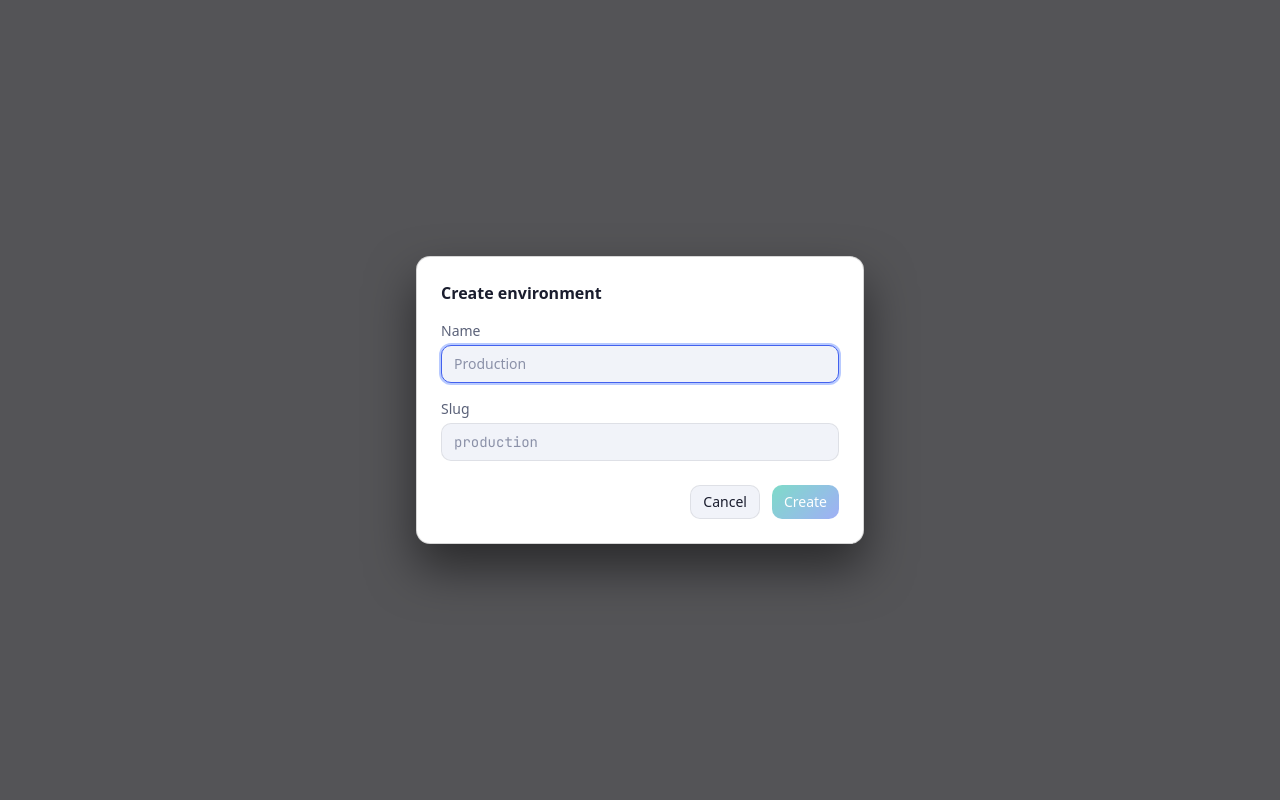
Scenario: CreateEnvironmentDialog › disables Create button when slug has validation error
The width and height of the screenshot is (1280, 800).
Type "Prod" into the field labelled "Name" at (640, 364), box [441,345,839,383]
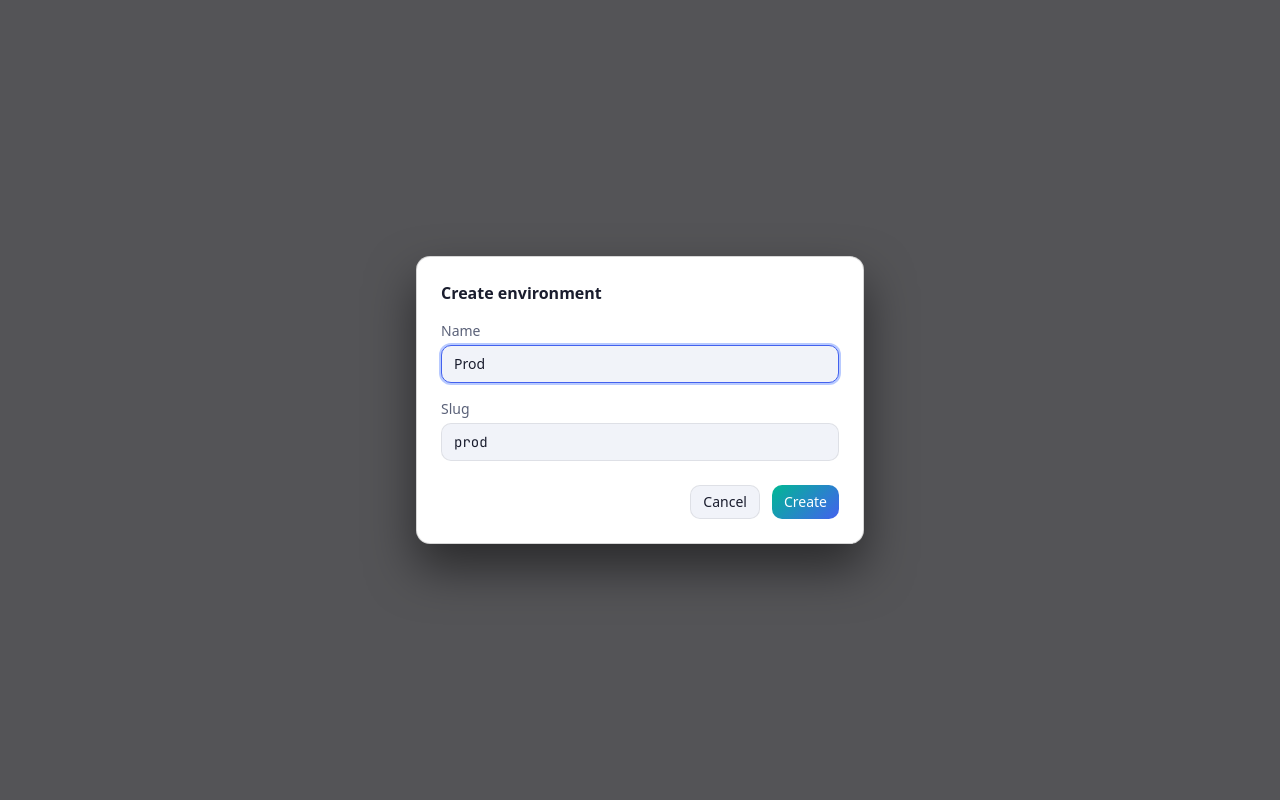
Note: clear slug and type an invalid one
Replace the text in the field labelled "Slug" with "my production env" at (640, 442), box [441,423,839,461]
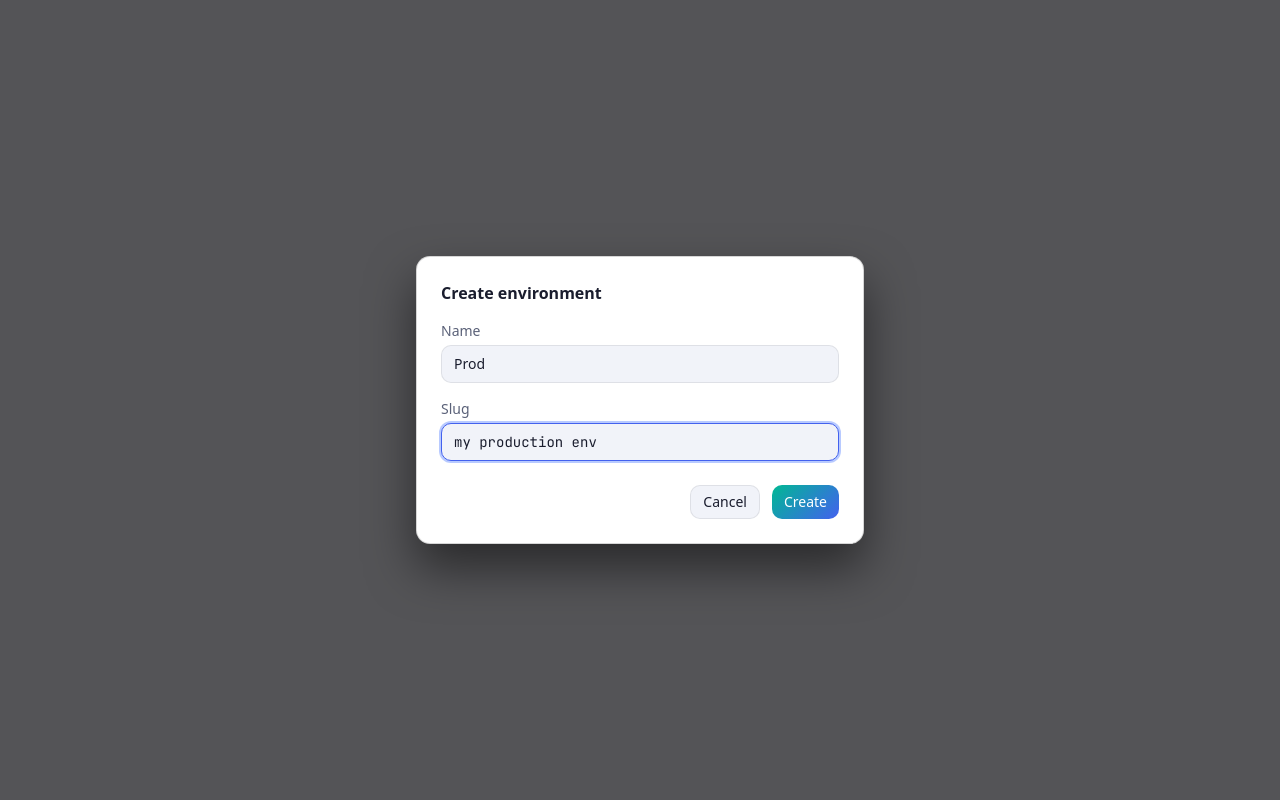
Press Tab
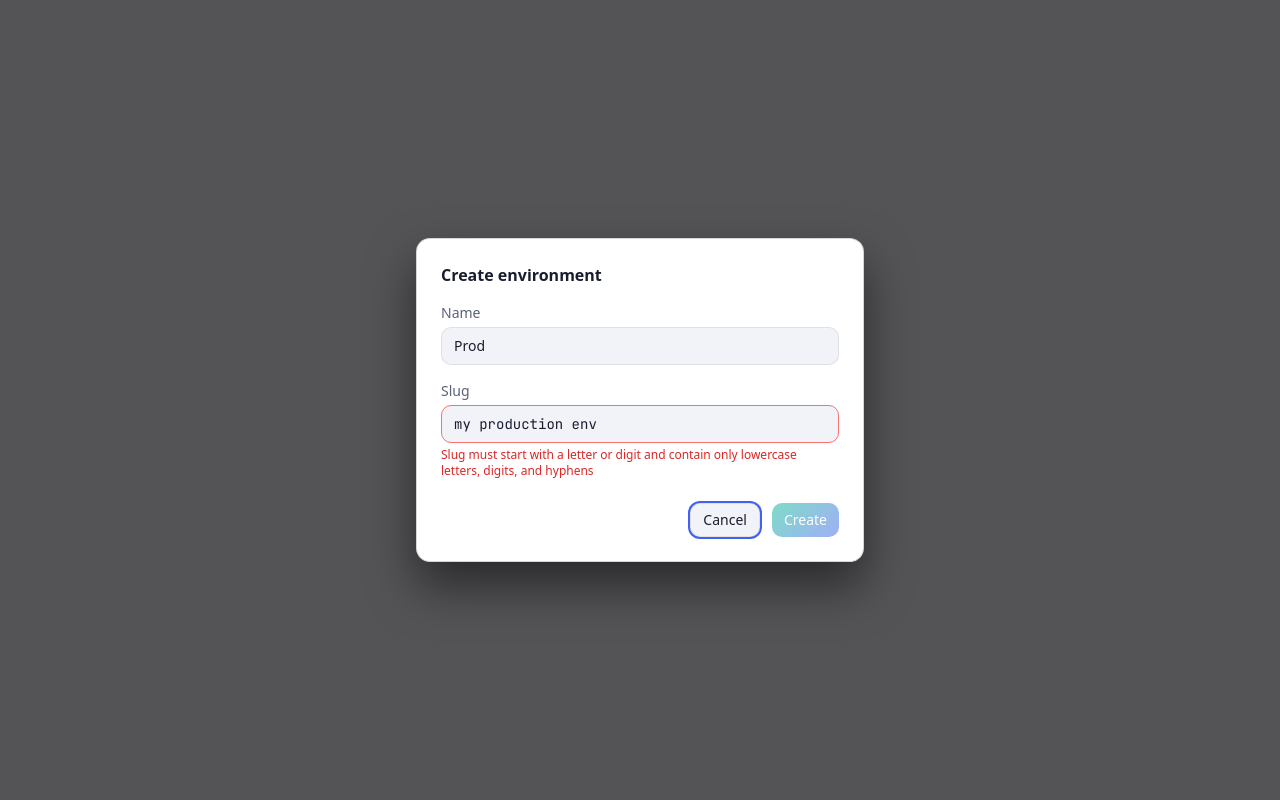
Result: the message is shown at [441,447,839,479]
Result: the button "Create" is disabled at [772,503,839,537]
